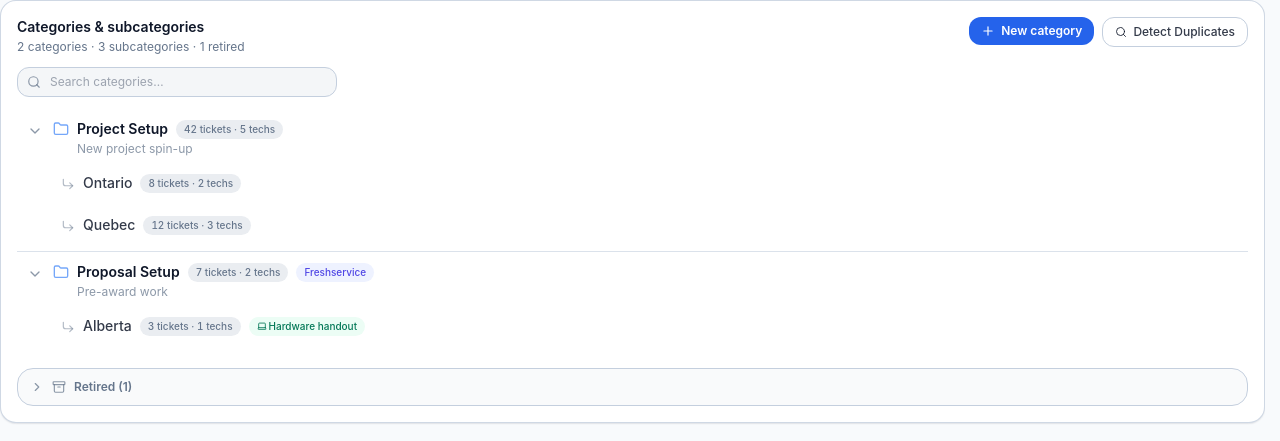
Test: CategoriesManagementTab (tree overhaul) › search filters the tree but keeps parent context
The image size is (1280, 441).
Expected: the text "Project Setup" is shown, 77,119 -> 168,139
Step 1. Type "alberta" into the search field labelled "Search categories" → (177, 82), box 17,67 -> 337,97
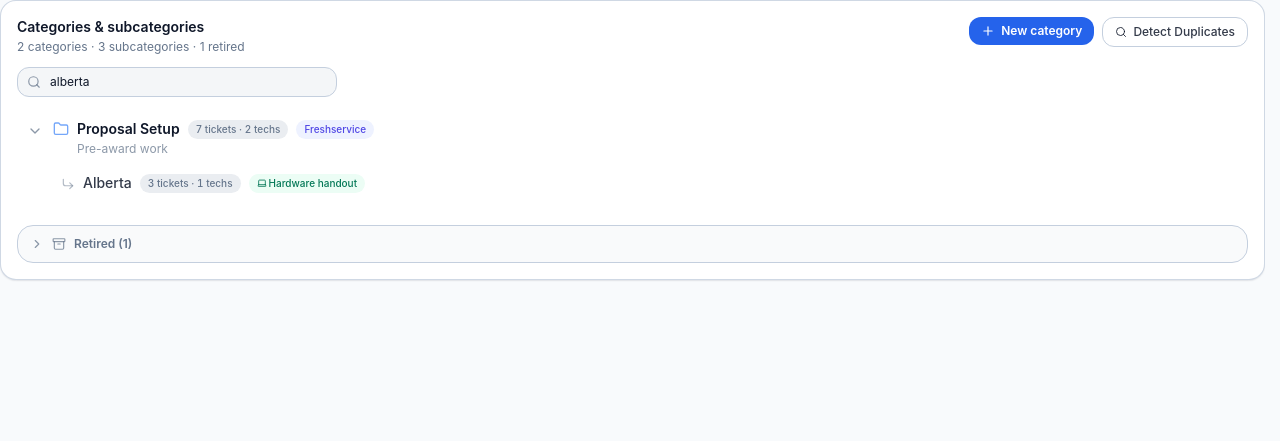
Expected: the text "Alberta" is shown, 83,173 -> 132,193
Expected: the text "Project Setup" is gone
Expected: the text "Quebec" is gone
